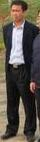boots: (0, 131, 16, 139), (0, 114, 8, 121)
